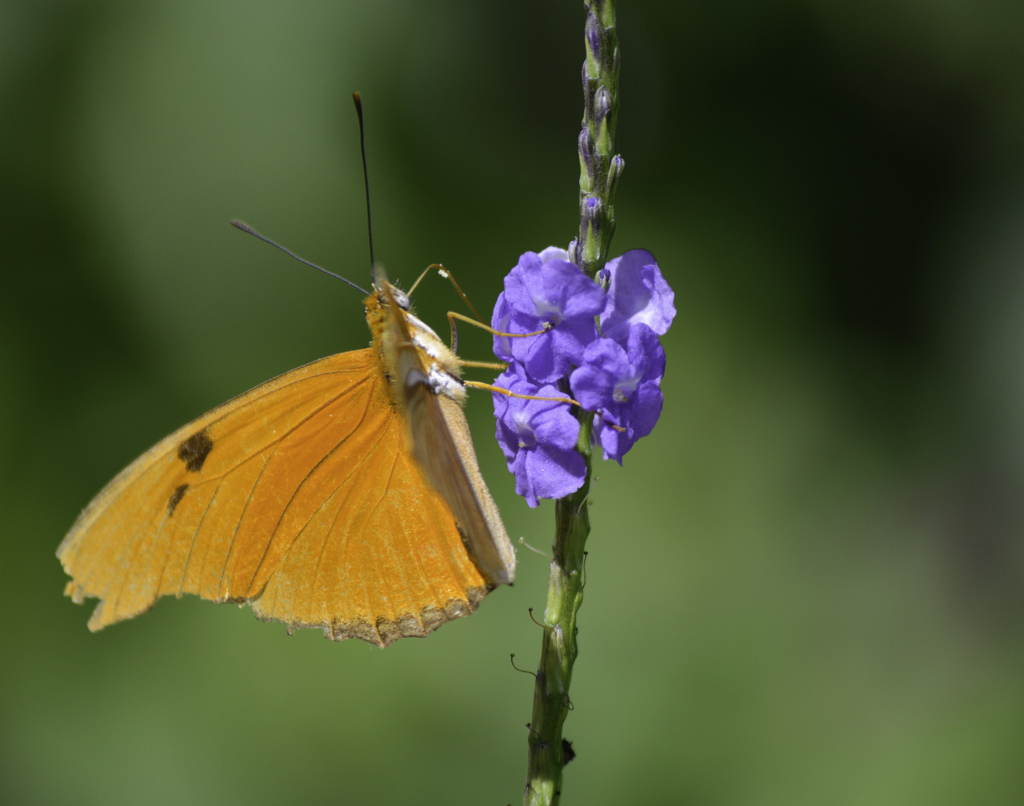Butterfly: (34, 216, 588, 686)
